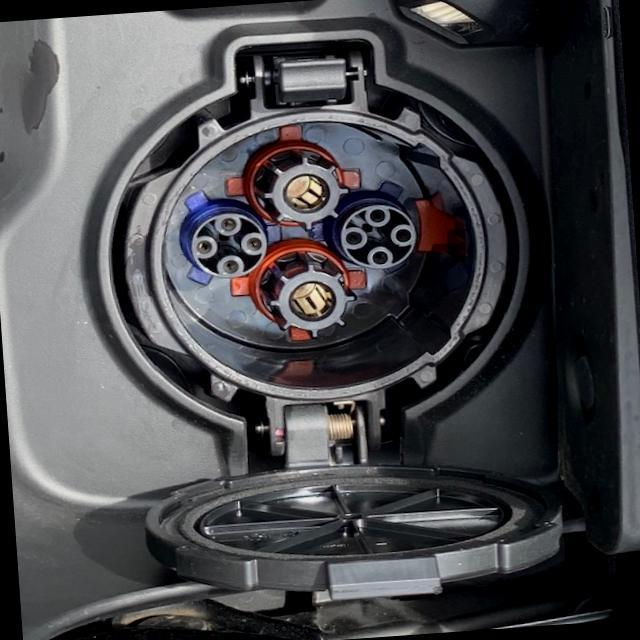CHAdeMO: (121, 64, 493, 399)
